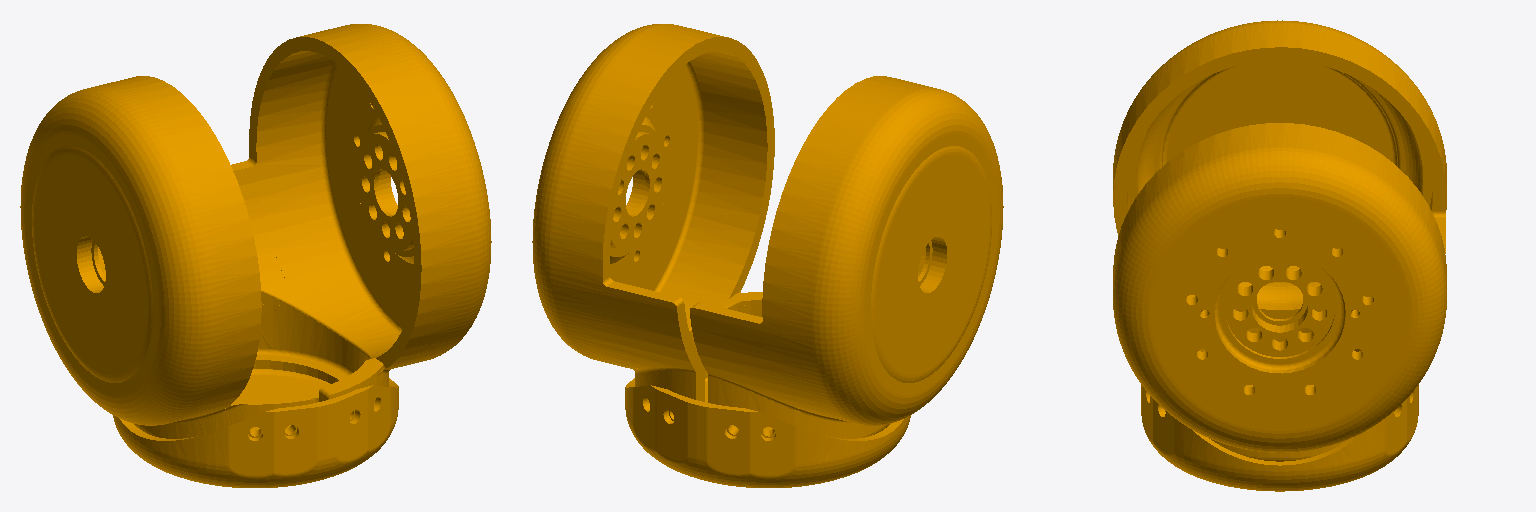
robot.urdf — hyuspa_v2:
<?xml version="1.0" ?>
<!-- =================================================================================== -->
<!-- |    This document was autogenerated by xacro from right_sim.xacro                | -->
<!-- |    EDITING THIS FILE BY HAND IS NOT RECOMMENDED                                 | -->
<!-- =================================================================================== -->
<robot name="hyuspa_v2">
  <!--  <collision>
    <origin rpy="${colvis_rpy}" xyz="${colvis_xyz}" />
    <geometry>
      <mesh filename="${meshfile}" scale="${meshscale}"/>
    </geometry>
  </collision>-->
  <!-- END - Include -->
  <link name="world"/>
  <joint name="world_base" type="fixed">
    <parent link="world"/>
    <child link="Arm_Link_base"/>
    <origin rpy="0 0 0" xyz="0 0 0"/>
  </joint>
  <link name="Arm_Link_base"/>
  <joint name="Arm_Joint_base_joint" type="fixed">
    <parent link="Arm_Link_base"/>
    <child link="SPA_Base_Link"/>
    <origin rpy="0 0 0" xyz="0 0 0"/>
  </joint>
  <link name="SPA_Base_Link">
    <inertial>
      <mass value="14.299"/>
      <origin rpy="0 0 0" xyz="0.0 -0.01869 0.75176"/>
      <inertia ixx="4.7569" ixy="3.5447e-06" ixz="1.3257e-05" iyy="4.7075" iyz="0.21788" izz="0.16593"/>
    </inertial>
    <visual>
      <origin rpy="0 0 0" xyz="0 0 0"/>
      <geometry>
        <mesh filename="package://hyuspa_v2_description/meshes/hyuspa_v2/SPA_Base_Link.STL" scale="1 1 1"/>
      </geometry>
      <material name="light_black"/>
    </visual>
  </link>
  <joint name="Arm_Joint_1" type="revolute">
    <axis xyz="0 1 0"/>
    <limit effort="50" lower="-3.09" upper="1.11" velocity="2.4"/>
    <origin rpy="0 0 0" xyz="0 -0.3107 1.567"/>
    <parent link="SPA_Base_Link"/>
    <child link="SPA_Link_01"/>
    <dynamics damping="0.0" friction="0.7"/>
  </joint>
  <transmission name="trans_Arm_Joint_1">
    <type>transmission_interface/SimpleTransmission</type>
    <joint name="Arm_Joint_1">
      <hardwareInterface>hardware_interface/EffortJointInterface</hardwareInterface>
    </joint>
    <actuator name="motor_Arm_Joint_1">
      <hardwareInterface>hardware_interface/EffortJointInterface</hardwareInterface>
      <mechanicalReduction>1</mechanicalReduction>
    </actuator>
  </transmission>
  <link name="SPA_Link_01">
    <inertial>
      <mass value="0.19006"/>
      <origin rpy="0 0 0" xyz="0.00255 -0.04684 0.00039303"/>
      <inertia ixx="0.0001285" ixy="6.9599e-06" ixz="3.35e-07" iyy="0.00013782" iyz="-1.5817e-06" izz="0.00017651"/>
    </inertial>
    <visual>
      <origin rpy="0 0 0" xyz="0 0 0"/>
      <geometry>
        <mesh filename="package://hyuspa_v2_description/meshes/hyuspa_v2/SPA_Link_01.STL" scale="1 1 1"/>
      </geometry>
      <material name="light_black"/>
    </visual>
  </link>
  <joint name="Arm_Joint_2" type="revolute">
    <axis xyz="1 0 0"/>
    <limit effort="50" lower="-1.57" upper="1.9" velocity="2.4"/>
    <origin rpy="0 0 0" xyz="0 -0.054 0"/>
    <parent link="SPA_Link_01"/>
    <child link="SPA_Link_02"/>
    <dynamics damping="0.0" friction="0.7"/>
  </joint>
  <transmission name="trans_Arm_Joint_2">
    <type>transmission_interface/SimpleTransmission</type>
    <joint name="Arm_Joint_2">
      <hardwareInterface>hardware_interface/EffortJointInterface</hardwareInterface>
    </joint>
    <actuator name="motor_Arm_Joint_2">
      <hardwareInterface>hardware_interface/EffortJointInterface</hardwareInterface>
      <mechanicalReduction>1</mechanicalReduction>
    </actuator>
  </transmission>
  <link name="SPA_Link_02">
    <inertial>
      <mass value="1.42162"/>
      <origin rpy="0 0 0" xyz="0.00093 -0.00217 -0.08254"/>
      <inertia ixx="0.00368181349" ixy="-0.00018327606" ixz="-2.68131e-06" iyy="0.00104405709" iyz="3.34569e-06" izz="0.00406650369"/>
    </inertial>
    <visual>
      <origin rpy="0 0 0" xyz="0 0 0"/>
      <geometry>
        <mesh filename="package://hyuspa_v2_description/meshes/hyuspa_v2/SPA_Link_02.STL" scale="1 1 1"/>
      </geometry>
      <material name="light_black"/>
    </visual>
  </link>
  <joint name="Arm_Joint_3" type="revolute">
    <axis xyz="0 0 1"/>
    <limit effort="50" lower="-1.09" upper="1.34" velocity="2.4"/>
    <origin rpy="0 0 0" xyz="0 0 -0.1458"/>
    <parent link="SPA_Link_02"/>
    <child link="SPA_Link_03"/>
    <dynamics damping="0.0" friction="0.7"/>
  </joint>
  <transmission name="trans_Arm_Joint_3">
    <type>transmission_interface/SimpleTransmission</type>
    <joint name="Arm_Joint_3">
      <hardwareInterface>hardware_interface/EffortJointInterface</hardwareInterface>
    </joint>
    <actuator name="motor_Arm_Joint_3">
      <hardwareInterface>hardware_interface/EffortJointInterface</hardwareInterface>
      <mechanicalReduction>1</mechanicalReduction>
    </actuator>
  </transmission>
  <link name="SPA_Link_03">
    <inertial>
      <mass value="0.2435"/>
      <origin rpy="0 0 0" xyz="-0.00092 0.00049 -0.11495"/>
      <inertia ixx="0.00068284" ixy="-8.5183e-06" ixz="-4.7514e-07" iyy="0.00022011" iyz="8.8649e-06" izz="0.00063402"/>
    </inertial>
    <visual>
      <origin rpy="0 0 0" xyz="0 0 0"/>
      <geometry>
        <mesh filename="package://hyuspa_v2_description/meshes/hyuspa_v2/SPA_Link_03.STL" scale="1 1 1"/>
      </geometry>
      <material name="light_black"/>
    </visual>
  </link>
  <joint name="Arm_Joint_4" type="revolute">
    <axis xyz="0 1 0"/>
    <limit effort="50" lower="-2.48" upper="0.156" velocity="2.4"/>
    <origin rpy="0 0 0" xyz="0 0 -0.1542"/>
    <parent link="SPA_Link_03"/>
    <child link="SPA_Link_04"/>
    <dynamics damping="0.0" friction="0.7"/>
  </joint>
  <transmission name="trans_Arm_Joint_4">
    <type>transmission_interface/SimpleTransmission</type>
    <joint name="Arm_Joint_4">
      <hardwareInterface>hardware_interface/EffortJointInterface</hardwareInterface>
    </joint>
    <actuator name="motor_Arm_Joint_4">
      <hardwareInterface>hardware_interface/EffortJointInterface</hardwareInterface>
      <mechanicalReduction>1</mechanicalReduction>
    </actuator>
  </transmission>
  <link name="SPA_Link_04">
    <inertial>
      <mass value="1.1894"/>
      <origin rpy="0 0 0" xyz="-0.00204 -0.00034 -0.08047"/>
      <inertia ixx="0.00324613078" ixy="-2.02519e-06" ixz="1.1493e-07" iyy="0.00054844144" iyz="0.00023013877" izz="0.00324899669"/>
    </inertial>
    <visual>
      <origin rpy="0 0 0" xyz="0 0 0"/>
      <geometry>
        <mesh filename="package://hyuspa_v2_description/meshes/hyuspa_v2/SPA_Link_04.STL" scale="1 1 1"/>
      </geometry>
      <material name="light_black"/>
    </visual>
  </link>
  <joint name="Arm_Joint_5" type="revolute">
    <axis xyz="0 0 1"/>
    <limit effort="50" lower="-1.392" upper="1.41" velocity="2.4"/>
    <origin rpy="0 0 0" xyz="0 0 -0.1458"/>
    <parent link="SPA_Link_04"/>
    <child link="SPA_Link_05"/>
    <dynamics damping="0.0" friction="0.7"/>
  </joint>
  <transmission name="trans_Arm_Joint_5">
    <type>transmission_interface/SimpleTransmission</type>
    <joint name="Arm_Joint_5">
      <hardwareInterface>hardware_interface/EffortJointInterface</hardwareInterface>
    </joint>
    <actuator name="motor_Arm_Joint_5">
      <hardwareInterface>hardware_interface/EffortJointInterface</hardwareInterface>
      <mechanicalReduction>1</mechanicalReduction>
    </actuator>
  </transmission>
  <link name="SPA_Link_05">
    <inertial>
      <mass value="0.36826"/>
      <origin rpy="0 0 0" xyz="0.00000229 -0.00084 -0.11414"/>
      <inertia ixx="0.0029078647" ixy="8.047904e-05" ixz="-1.276791e-05" iyy="0.00028211059" iyz="-0.00014451678" izz="0.0030636283"/>
    </inertial>
    <visual>
      <origin rpy="0 0 0" xyz="0 0 0"/>
      <geometry>
        <mesh filename="package://hyuspa_v2_description/meshes/hyuspa_v2/SPA_Link_05.STL" scale="1 1 1"/>
      </geometry>
      <material name="light_black"/>
    </visual>
  </link>
  <joint name="Arm_Joint_6" type="revolute">
    <axis xyz="1 0 0"/>
    <limit effort="50" lower="-1.41" upper="1.392" velocity="2.4"/>
    <origin rpy="0 0 0" xyz="0 0 -0.1542"/>
    <parent link="SPA_Link_05"/>
    <child link="SPA_Link_06"/>
    <dynamics damping="0.0" friction="0.7"/>
  </joint>
  <transmission name="trans_Arm_Joint_6">
    <type>transmission_interface/SimpleTransmission</type>
    <joint name="Arm_Joint_6">
      <hardwareInterface>hardware_interface/EffortJointInterface</hardwareInterface>
    </joint>
    <actuator name="motor_Arm_Joint_6">
      <hardwareInterface>hardware_interface/EffortJointInterface</hardwareInterface>
      <mechanicalReduction>1</mechanicalReduction>
    </actuator>
  </transmission>
  <link name="SPA_Link_06">
    <inertial>
      <mass value="0.36826"/>
      <origin rpy="0 0 0" xyz="0.00222 0.00091 -0.00853"/>
      <inertia ixx="0.0029078647" ixy="8.047904e-05" ixz="-1.276791e-05" iyy="0.00028211059" iyz="-0.00014451678" izz="0.0030636283"/>
    </inertial>
    <visual>
      <origin rpy="0 0 0" xyz="0 0 0"/>
      <geometry>
        <mesh filename="package://hyuspa_v2_description/meshes/hyuspa_v2/SPA_Link_06.STL" scale="1 1 1"/>
      </geometry>
      <material name="light_black"/>
    </visual>
  </link>
  <!-- END - Robot description -->
  <gazebo>
    <plugin filename="libgazebo_ros_p3d.so" name="p3d_base_controller">
      <alwaysOn>true</alwaysOn>
      <updateRate>1000.0</updateRate>
      <bodyName>SPA_Link_05</bodyName>
      <topicName>ground_truth/state</topicName>
      <gaussianNoise>0</gaussianNoise>
      <frameName>world</frameName>
      <xyzOffsets>0 0 0</xyzOffsets>
      <rpyOffsets>0 0 0</rpyOffsets>
    </plugin>
  </gazebo>
  <gazebo>
    <plugin filename="libgazebo_ros_control.so" name="gazebo_ros_control">
      <robotSimType>gazebo_ros_control/DefaultRobotHWSim</robotSimType>
      <legacyModeNS>true</legacyModeNS>
      <controlPeriod>0.001</controlPeriod>
      <robotNamespace>/hyuspa_v2</robotNamespace>
    </plugin>
  </gazebo>
</robot>

--- Render facts (derived) ---
3 views of the same robot in one strip: view 1: azimuth 30°, elevation 25°; view 2: azimuth 150°, elevation 25°; view 3: azimuth 270°, elevation 25° (orthographic).
Robot: hyuspa_v2 — 9 links, 8 joints (6 revolute, 2 fixed); root link world; default pose: all joints at 0.
Links seen in each view (by area): view 1: SPA_Link_06; view 2: SPA_Link_06; view 3: SPA_Link_06.
Boxes of the visible links, x1,y1,x2,y2 form: SPA_Link_06: (20,24,491,487); SPA_Link_06: (532,24,1003,487); SPA_Link_06: (1113,20,1446,491).
Size in the robot's own frame: 0.078 by 0.071 by 0.0845 metres.
1 mesh visuals loaded from 7 distinct referenced files (1 binary STL); not drawn: 6 (reference not matched to a file when rendering).